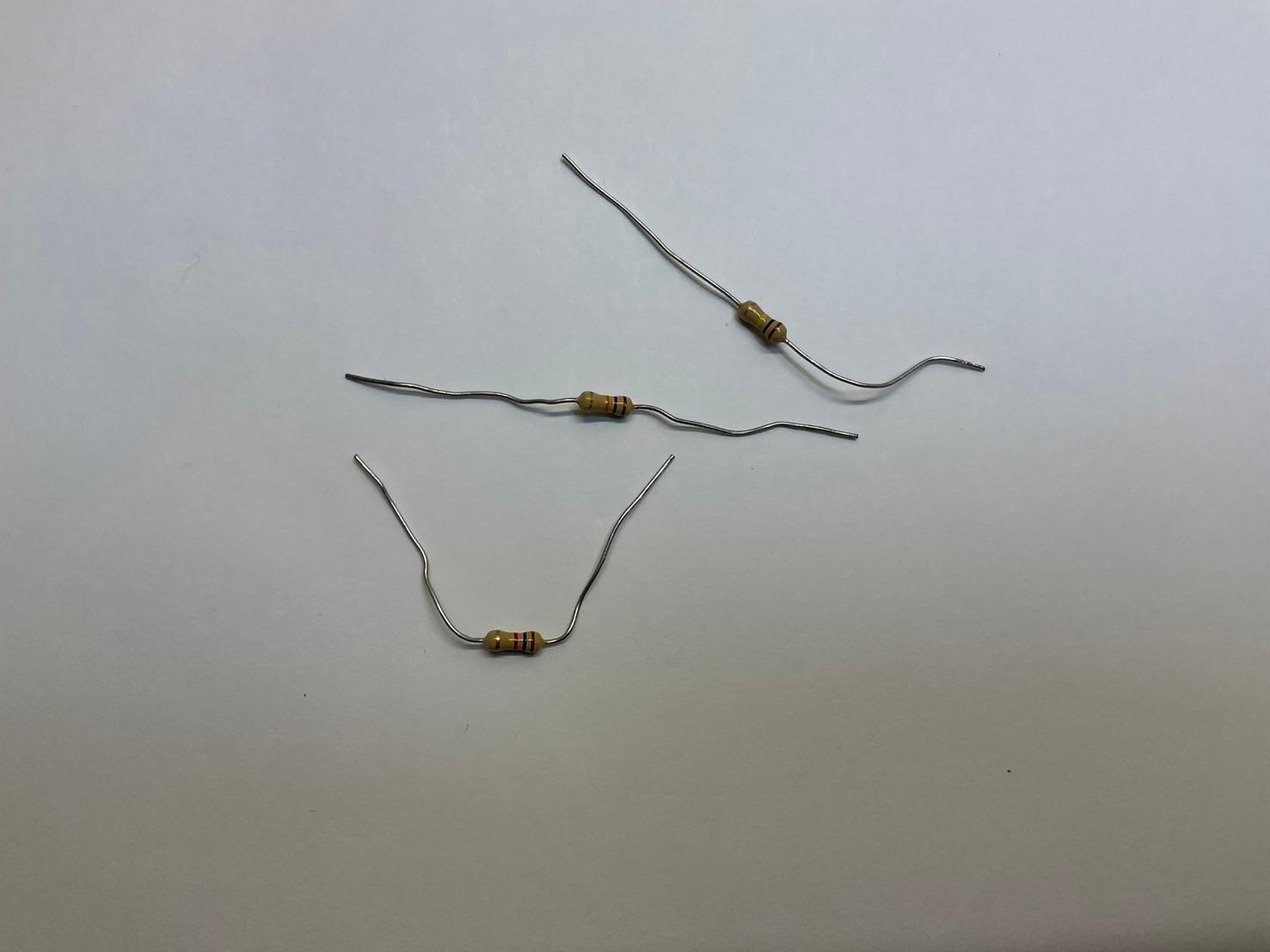resistor: (738, 296, 788, 344), (479, 627, 551, 655), (577, 389, 638, 419)
